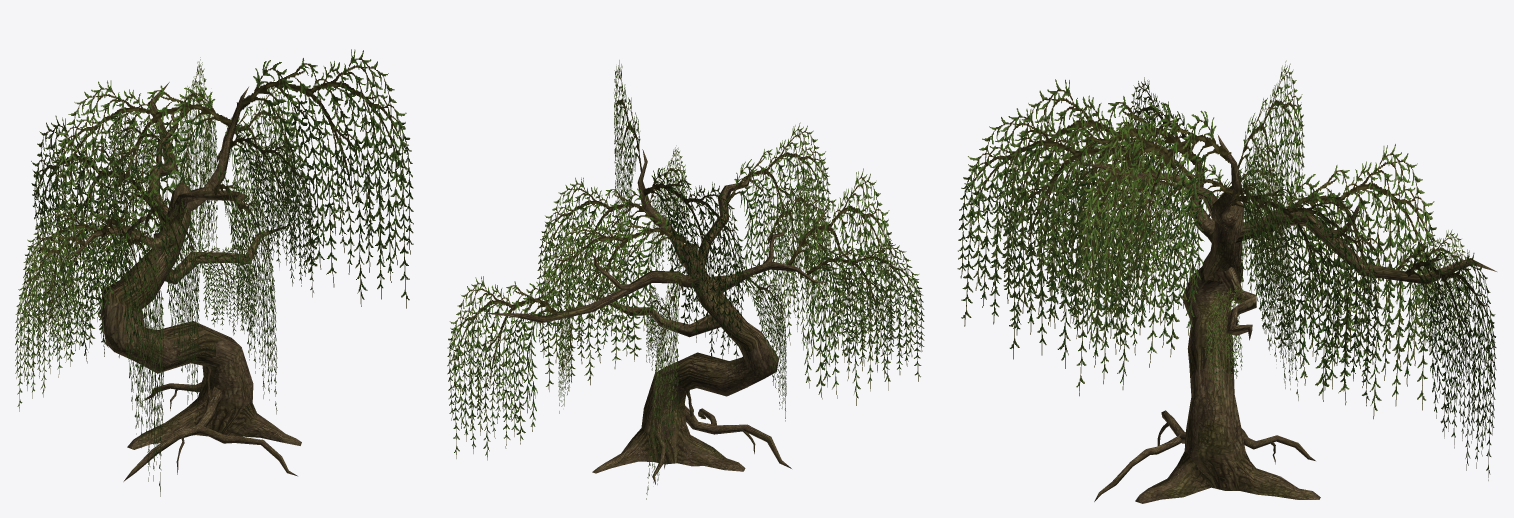
File: liushu_61.FBX
3 views of the same model, side by side, from view 1: azimuth 30°, elevation 25°; view 2: azimuth 150°, elevation 25°; view 3: azimuth 270°, elevation 25° (orthographic). The views are drawn at different scales.
Visible parts, largest first — view 1: liushu_61; view 2: liushu_61; view 3: liushu_61.
Boxes of the visible parts, x1,y1,x2,y2 form: liushu_61: (15, 49, 413, 496); liushu_61: (447, 60, 924, 499); liushu_61: (957, 60, 1496, 503).
Size of what is drawn, in the model's own units: 1426 by 1556 by 1666.
